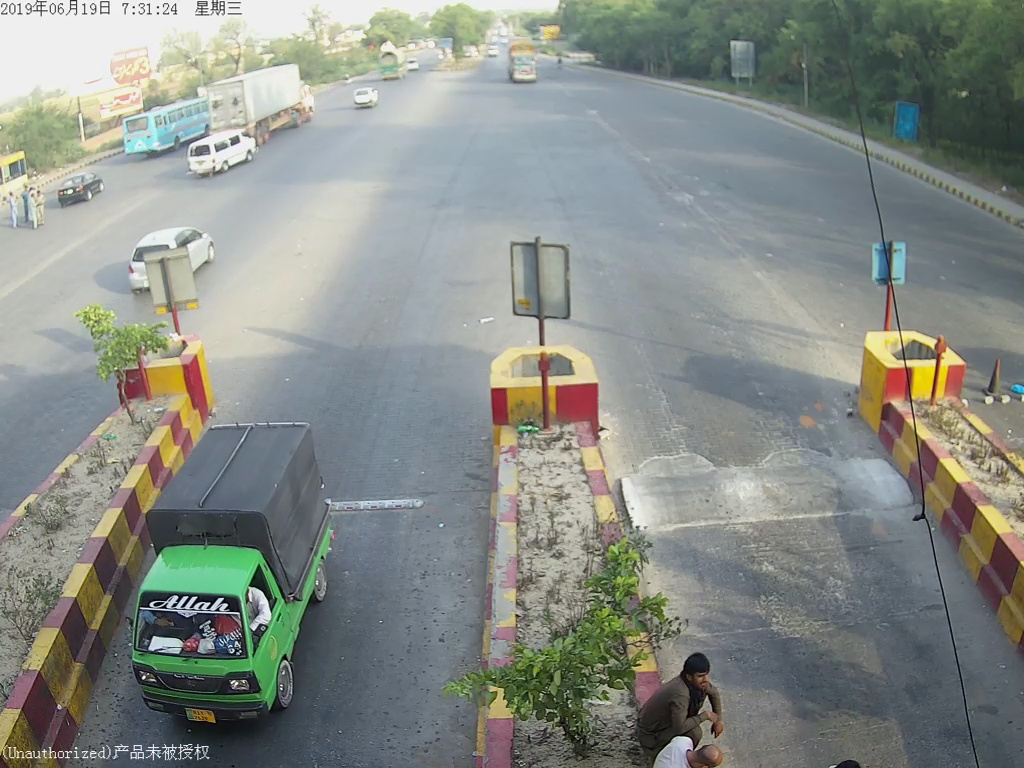Cat-1: (129, 518, 343, 725)
